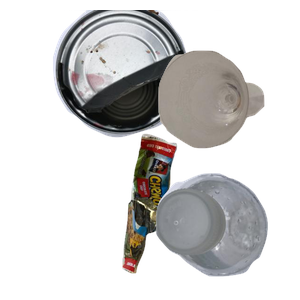glass: (156, 48, 300, 189)
metal: (50, 10, 262, 140)
plastic: (153, 170, 300, 300)
trash: (120, 131, 290, 300)
